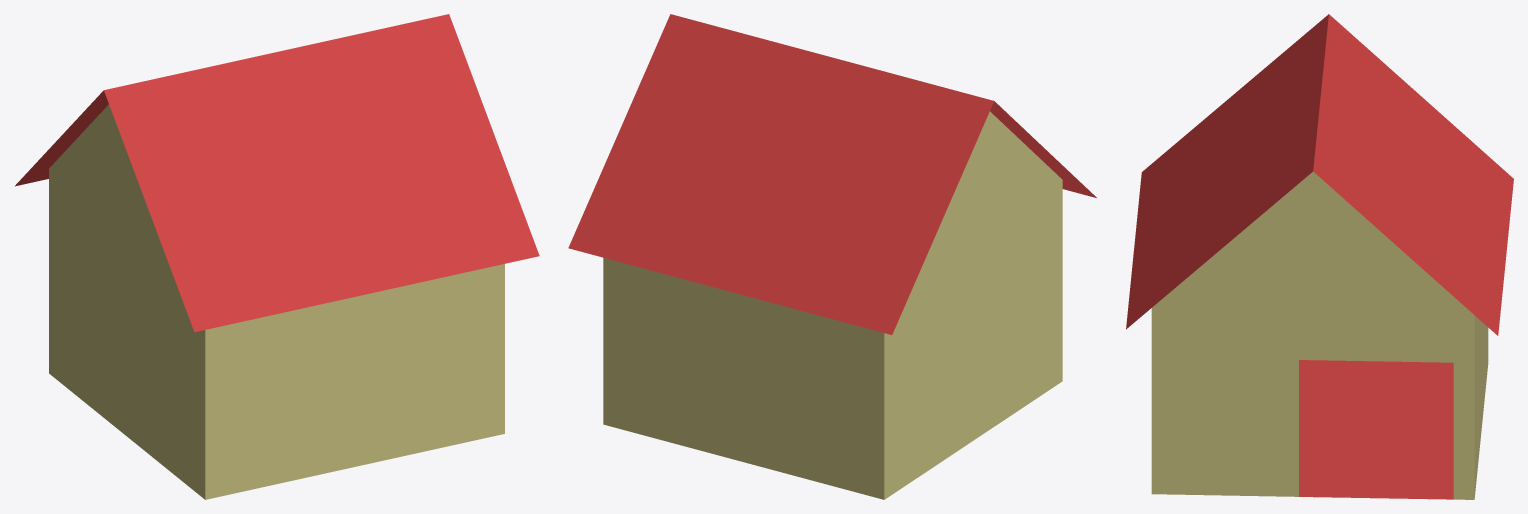
3 renders of one model, left to right at view 1: azimuth 30°, elevation 25°; view 2: azimuth 150°, elevation 25°; view 3: azimuth 270°, elevation 25°, orthographic. The views are drawn at different scales.
Size of the model in its own units: 11.81 by 11.8 by 11.27.
